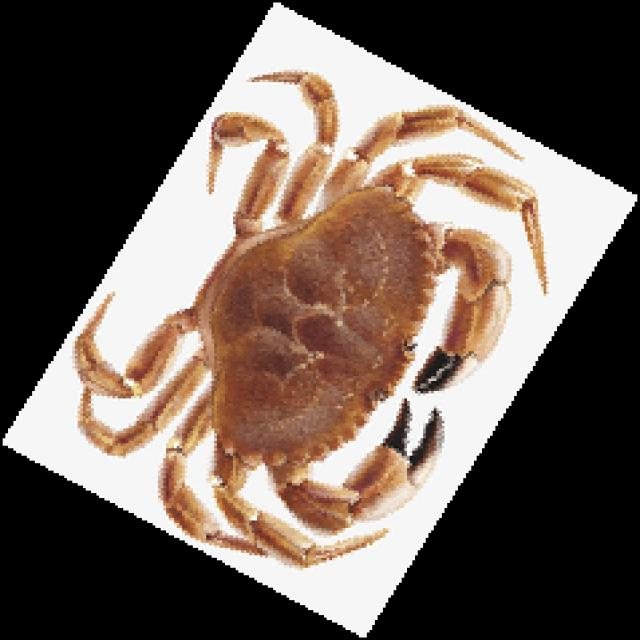Native Jonah crab: (78, 70, 546, 563)
